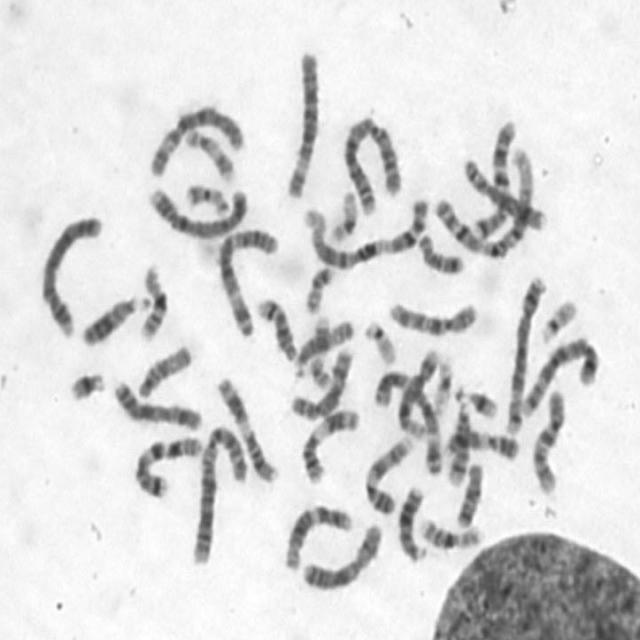A1: (428, 140, 536, 258), (298, 187, 432, 270)
A2: (186, 417, 249, 567), (337, 107, 405, 216)
A3: (369, 362, 445, 477), (212, 218, 280, 339)
B4: (34, 207, 104, 339), (142, 176, 250, 241)
B5: (500, 268, 548, 437), (515, 329, 602, 420)
C10: (526, 382, 568, 496), (382, 293, 480, 337)
C11: (210, 368, 280, 486), (296, 400, 361, 486)
C12: (278, 497, 353, 573), (393, 340, 442, 439)
C6: (144, 96, 247, 179), (279, 41, 321, 201)
C7: (468, 112, 519, 243), (128, 428, 204, 500)
C8: (459, 150, 549, 233), (283, 340, 354, 423)
C9: (359, 426, 418, 516), (436, 423, 522, 463)
D13: (76, 287, 152, 348), (393, 478, 429, 563)
D14: (250, 289, 298, 362), (442, 394, 472, 488)
D15: (289, 312, 355, 379), (132, 337, 194, 400)
E16: (134, 256, 170, 342), (413, 510, 485, 551)
E17: (181, 121, 237, 183), (304, 307, 332, 390)
E18: (412, 225, 467, 277), (451, 455, 486, 529)
F19: (325, 183, 359, 244), (428, 349, 456, 416)
F20: (180, 176, 231, 218), (300, 260, 336, 314)
G21: (64, 362, 108, 403), (460, 380, 500, 420)
G22: (535, 291, 579, 344), (358, 313, 398, 366)
X: (297, 517, 385, 593), (108, 373, 204, 433)
